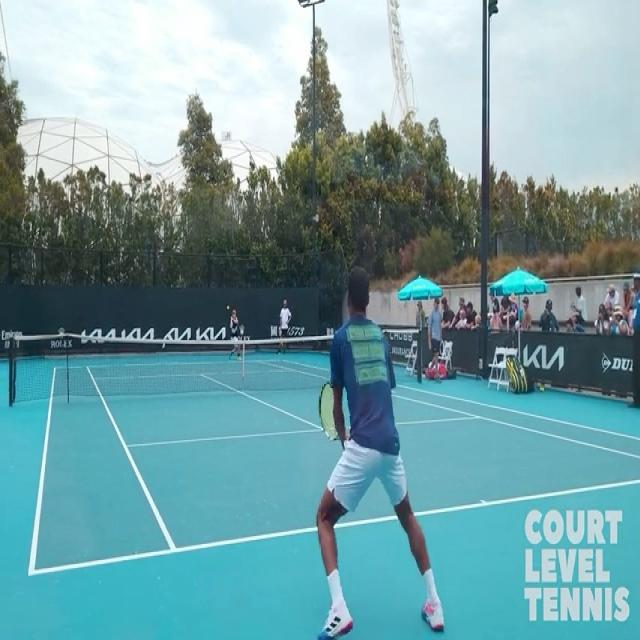ready-position: (316, 275, 448, 635)
